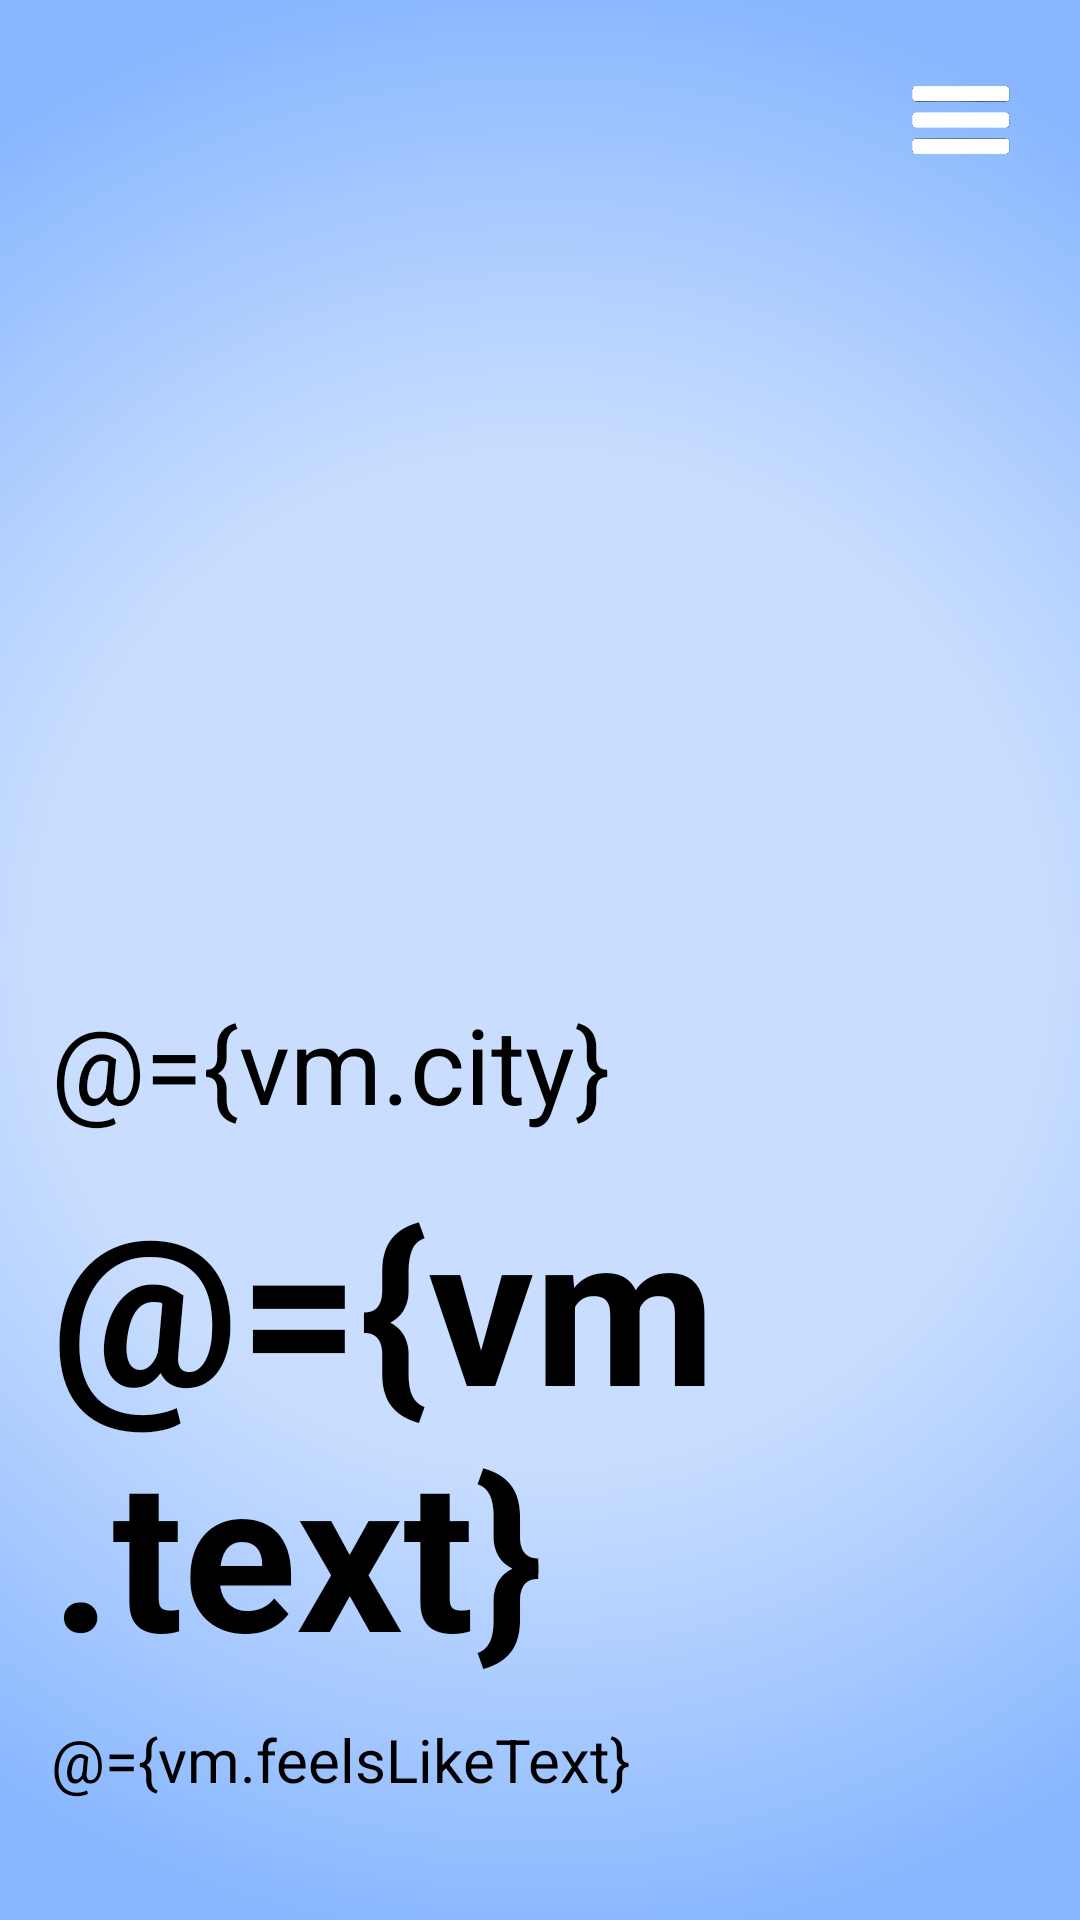

Where to tap for icons on this 1080px×1920px app screen, as [x,y]:
menu: [961,120]
